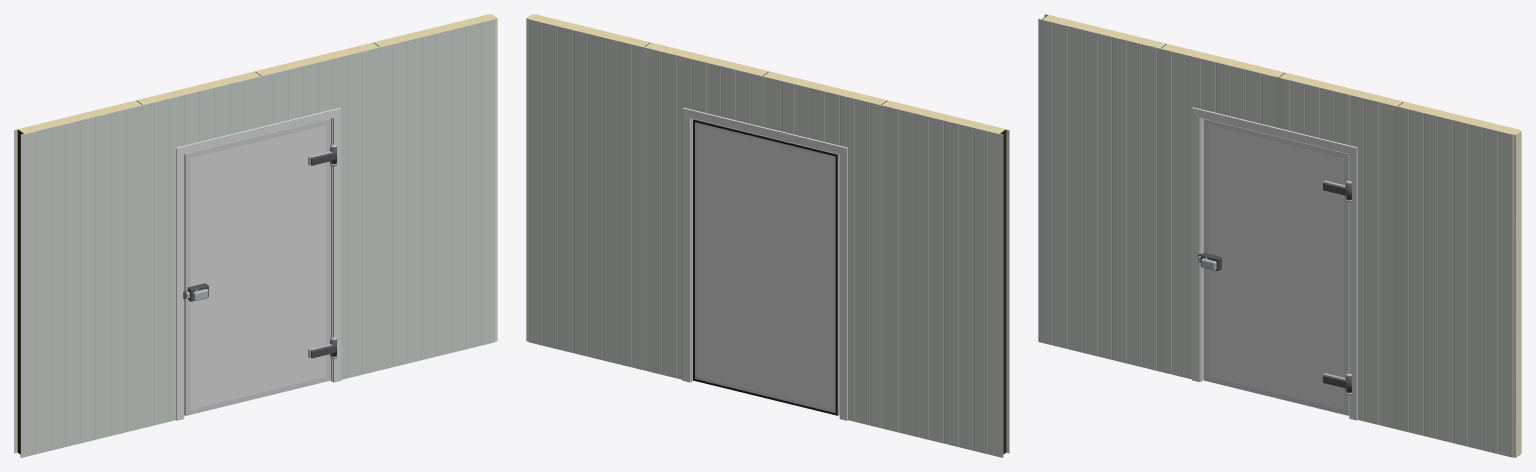
Rendered from hinged-4x7.glb.
3 views of the same model, side by side, from view 1: azimuth 30°, elevation 25°; view 2: azimuth 150°, elevation 25°; view 3: azimuth 330°, elevation 25° (orthographic).
Visible parts, largest first — view 1: Wall_p0_Steel_top, Wall_p3_Steel_top, SkinF, Wall_p1_Steel_top, Wall_p2_Steel_top, TrimF_L, TrimF_R, Wall_p0_PIR_core, TrimF_T, AluF_L, Wall_p0_Gasket, AluF_R (+8 smaller); view 2: Wall_p0_Steel_bottom, Wall_p3_Steel_bottom, SkinB, Wall_p1_Steel_bottom, Wall_p2_Steel_bottom, TrimB_L, TrimB_R, Wall_p0_PIR_core, TrimB_T, Wall_p0_Gasket, AluB_L, Wall_p3_Tongue_tape (+10 smaller); view 3: Wall_p3_Steel_top, Wall_p0_Steel_top, SkinF, Wall_p2_Steel_top, Wall_p1_Steel_top, Wall_p3_Tongue_tape, TrimF_L, TrimF_R, Wall_p3_PIR_core, TrimF_T, AluF_L, AluF_R (+6 smaller).
Boxes of the visible parts, box(x1,y1,x2,y2) form: Wall_p0_Steel_top: box(20, 106, 139, 457); Wall_p3_Steel_top: box(377, 19, 495, 370); SkinF: box(190, 125, 326, 409); Wall_p1_Steel_top: box(139, 77, 258, 428); Wall_p2_Steel_top: box(258, 48, 376, 379); TrimF_L: box(176, 148, 184, 420); TrimF_R: box(333, 108, 341, 382); Wall_p0_PIR_core: box(14, 101, 141, 452); TrimF_T: box(176, 107, 341, 154); AluF_L: box(185, 155, 190, 415); Wall_p0_Gasket: box(17, 129, 23, 454); AluF_R: box(326, 119, 330, 380); Wall_p0_Steel_bottom: box(884, 106, 1003, 457); Wall_p3_Steel_bottom: box(528, 19, 646, 370); SkinB: box(697, 125, 833, 409); Wall_p1_Steel_bottom: box(765, 77, 884, 428); Wall_p2_Steel_bottom: box(647, 48, 765, 379); TrimB_L: box(839, 148, 847, 420); TrimB_R: box(682, 108, 690, 382); Wall_p0_PIR_core: box(883, 101, 1009, 452); TrimB_T: box(682, 107, 847, 154); Wall_p0_Gasket: box(1000, 129, 1006, 454); AluB_L: box(833, 155, 838, 415); Wall_p3_Tongue_tape: box(526, 14, 533, 341); Wall_p3_Steel_top: box(1394, 105, 1512, 457); Wall_p0_Steel_top: box(1038, 19, 1156, 370); SkinF: box(1208, 125, 1343, 409); Wall_p2_Steel_top: box(1275, 77, 1393, 428); Wall_p1_Steel_top: box(1157, 48, 1275, 379); Wall_p3_Tongue_tape: box(1513, 131, 1521, 457); TrimF_L: box(1192, 108, 1200, 381); TrimF_R: box(1349, 147, 1357, 420); Wall_p3_PIR_core: box(1394, 101, 1520, 457); TrimF_T: box(1192, 107, 1357, 153); AluF_L: box(1203, 119, 1208, 379); AluF_R: box(1344, 155, 1348, 414).
Size of the model in its own units: 4.02 by 2.6 by 0.196.
